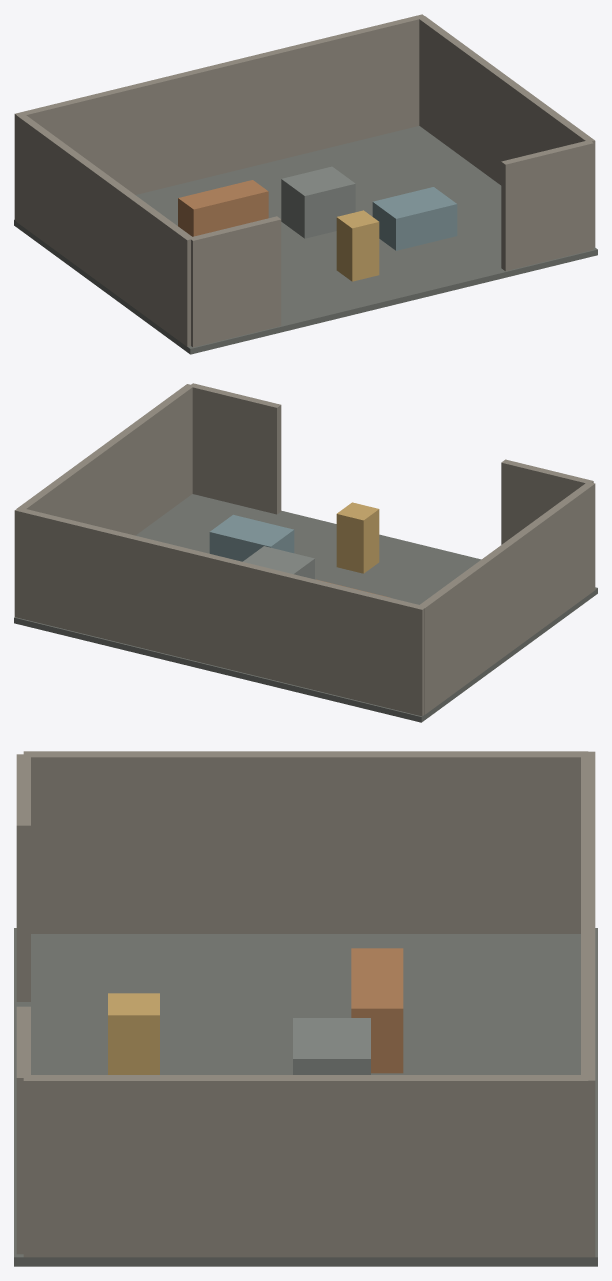
File: architectural-fixture.glb
3 renders of one model, top to bottom at view 1: azimuth 30°, elevation 25°; view 2: azimuth 150°, elevation 25°; view 3: azimuth 270°, elevation 25°, orthographic. The views are drawn at different scales.
Parts seen in each view (by area): view 1: Back wall, Floor, Left wall, Right wall, Front wall right, Front wall left, Central obstacle, Materials display, Registration desk, Information kiosk; view 2: Back wall, Left wall, Floor, Right wall, Front wall right, Front wall left, Information kiosk, Materials display, Central obstacle; view 3: Right wall, Left wall, Floor, Back wall, Registration desk, Central obstacle, Information kiosk, Front wall left, Front wall right.
Boxes of the visible parts, box(x1,y1,x2,y2) form: Back wall: box(14, 14, 425, 221); Floor: box(14, 126, 597, 354); Left wall: box(16, 113, 194, 346); Right wall: box(419, 16, 595, 247); Front wall right: box(501, 141, 593, 271); Front wall left: box(191, 216, 281, 347); Central obstacle: box(281, 166, 355, 238); Materials display: box(372, 187, 457, 250); Registration desk: box(178, 180, 268, 236); Information kiosk: box(336, 210, 379, 281); Back wall: box(14, 507, 425, 716); Left wall: box(418, 482, 595, 714); Floor: box(14, 494, 597, 722); Right wall: box(17, 384, 193, 535); Front wall right: box(190, 383, 281, 514); Front wall left: box(501, 459, 593, 544); Information kiosk: box(336, 502, 379, 573); Materials display: box(209, 514, 294, 561); Central obstacle: box(243, 546, 314, 579); Right wall: box(23, 1075, 588, 1257); Left wall: box(23, 751, 587, 933); Floor: box(14, 928, 597, 1266); Back wall: box(581, 751, 595, 1257); Registration desk: box(351, 948, 403, 1073); Central obstacle: box(293, 1018, 370, 1074); Information kiosk: box(108, 993, 159, 1074); Front wall left: box(16, 754, 30, 1001); Front wall right: box(16, 1006, 30, 1254).
Bounding box in the file's own units: 12.02 × 3.16 × 9.
